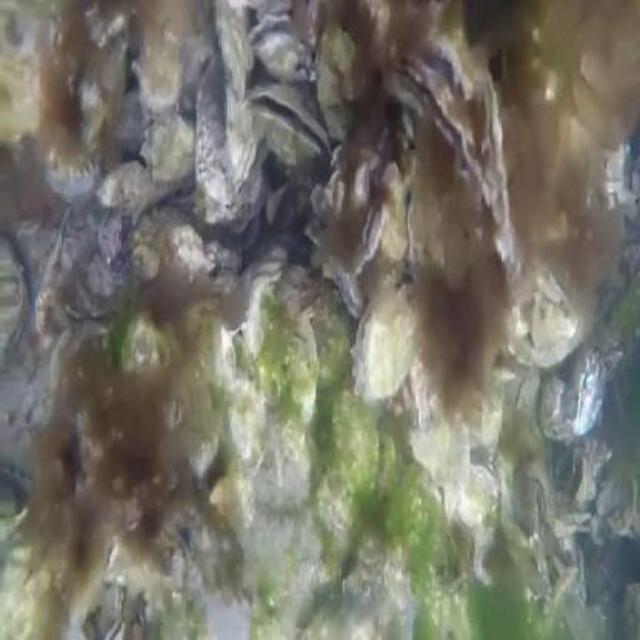Oyster-Closed: (165, 486, 251, 610), (353, 270, 426, 404), (506, 251, 586, 368), (482, 72, 519, 280), (409, 407, 471, 518), (425, 0, 489, 100), (195, 53, 236, 204), (567, 329, 624, 436), (95, 161, 197, 219), (330, 389, 379, 503), (309, 220, 365, 315), (43, 112, 101, 202), (218, 258, 284, 336), (135, 24, 184, 123), (196, 159, 263, 231), (319, 27, 358, 136), (344, 523, 384, 625), (282, 311, 319, 420), (225, 82, 259, 193), (214, 0, 253, 95), (141, 116, 197, 182), (121, 311, 170, 379), (308, 308, 350, 386), (298, 597, 377, 638), (352, 192, 389, 276), (531, 292, 577, 348), (458, 465, 499, 527), (171, 226, 214, 276), (515, 473, 546, 536), (542, 376, 572, 440), (208, 325, 237, 386), (403, 367, 430, 431), (470, 526, 494, 588), (508, 367, 538, 416), (549, 519, 578, 567), (98, 204, 122, 260), (244, 0, 291, 21), (160, 394, 184, 430), (354, 164, 370, 213), (101, 535, 119, 576), (603, 151, 625, 183), (561, 513, 595, 532), (126, 503, 143, 532), (331, 143, 342, 171)
Oyster-Open: (381, 47, 502, 230), (248, 84, 330, 160), (249, 12, 316, 91), (569, 454, 595, 506), (327, 169, 346, 216), (311, 183, 329, 217), (103, 615, 125, 638)
